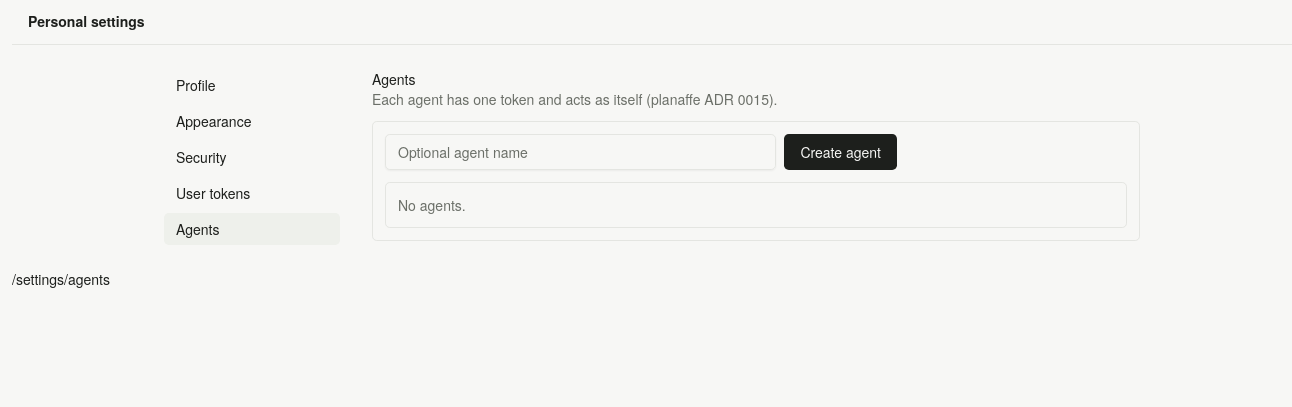
it: reports a created agent as saved, shows its secret once and clears the name
The image size is (1292, 407).
Type "one" into the field labelled "agent name" at (581, 152), box [385,134,776,170]
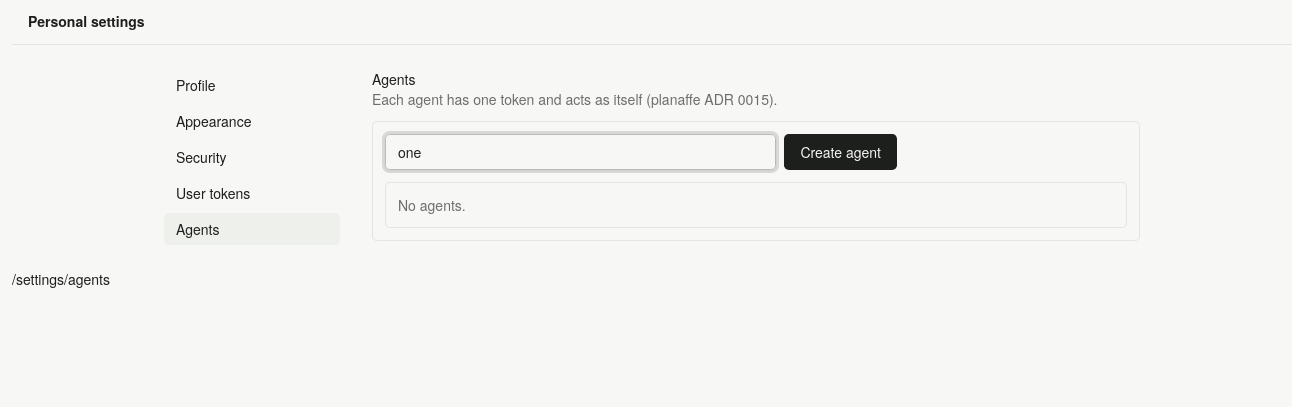
Click the button "Create agent" at (841, 152), box [784,134,897,170]
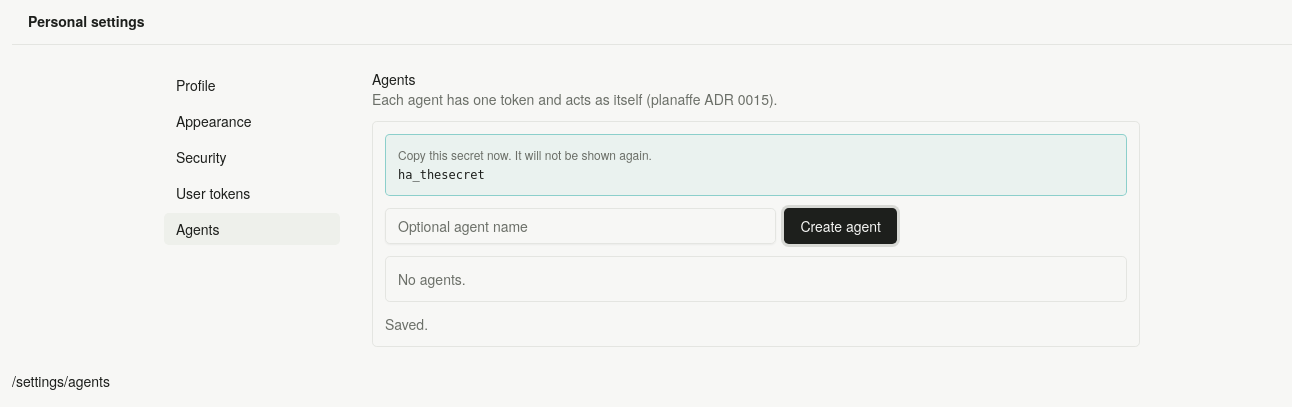
Expected: the text "ha_thesecret" is shown, [398,168,485,182]
Expected: the field labelled "agent name" is empty, [385,208,776,244]
Expected: the message "Saved." is shown, [385,314,428,334]
